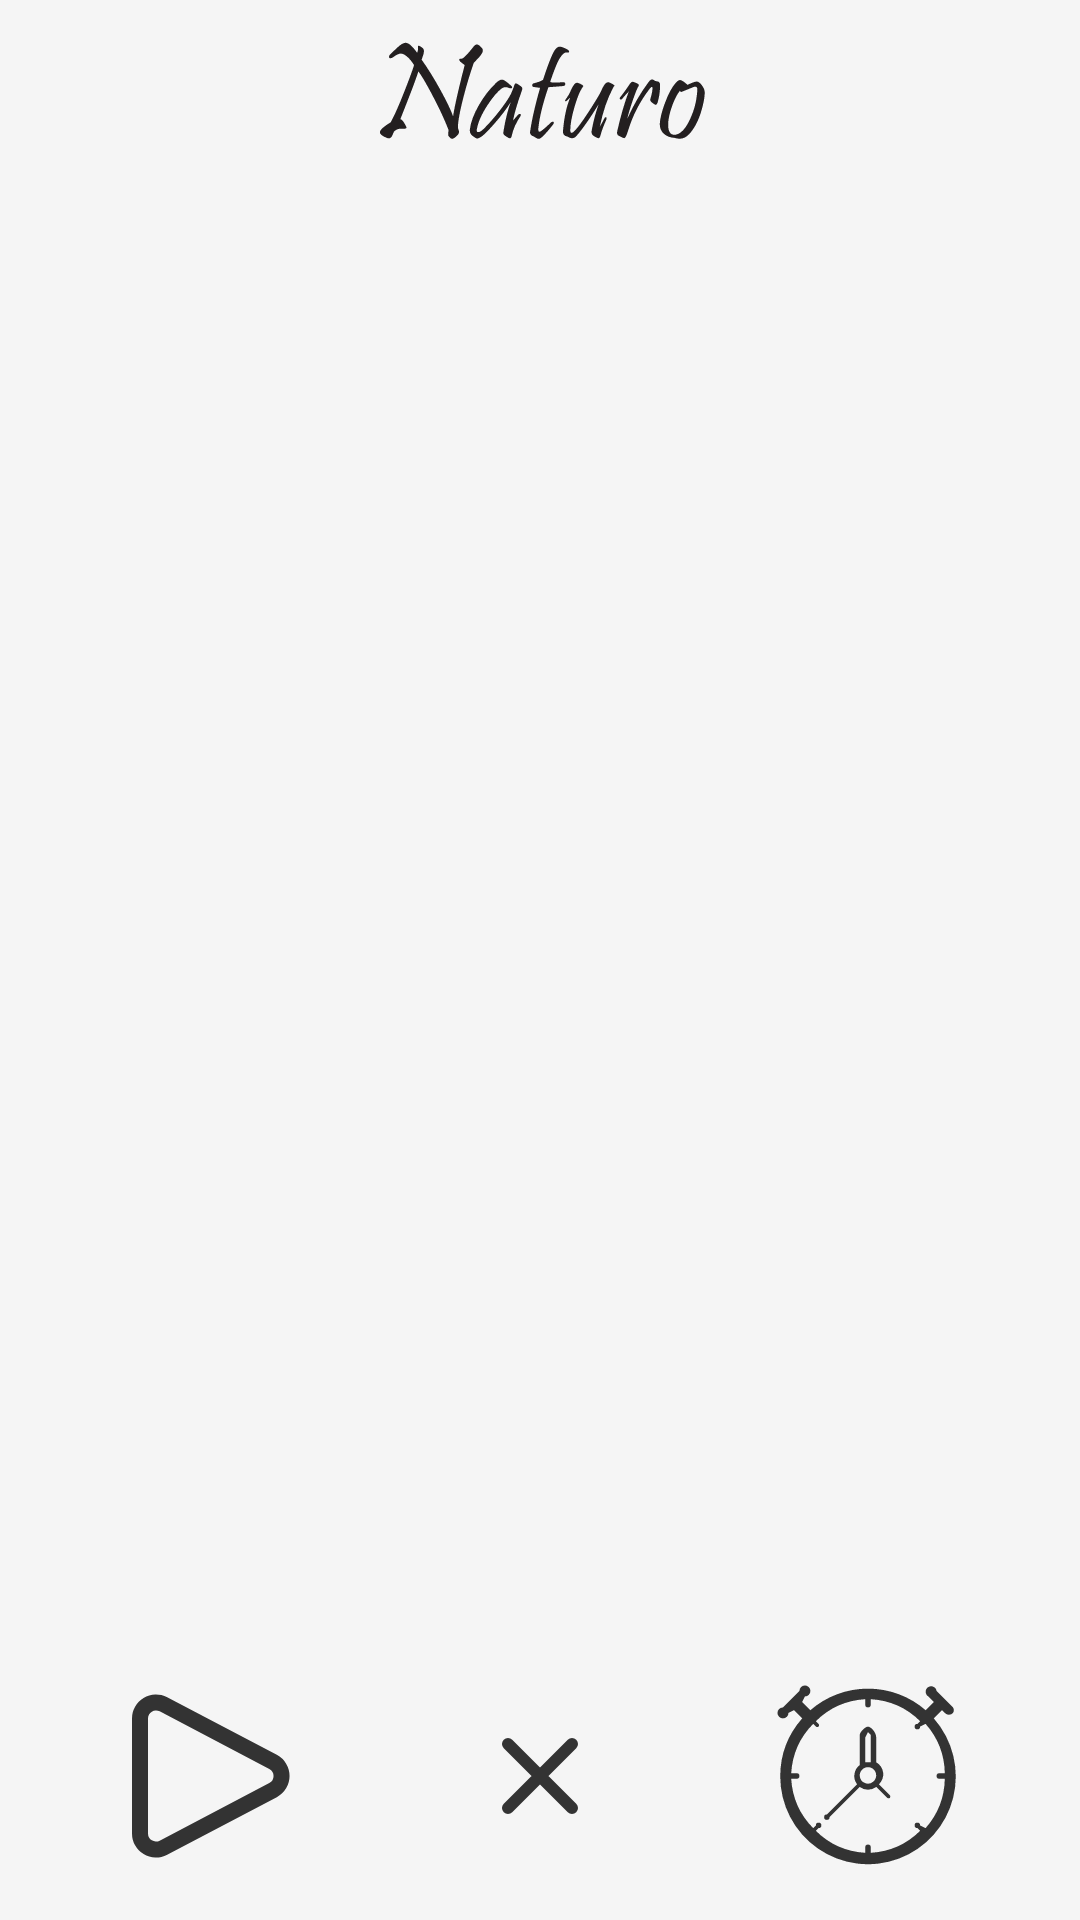

Screen size 1080x1920. Icon name, then its box in pixels as (x1, y1, x2, y2):
Clear: (502, 1738, 578, 1814)
Play/Pause: (132, 1694, 290, 1858)
Set Timer: (777, 1685, 956, 1865)
